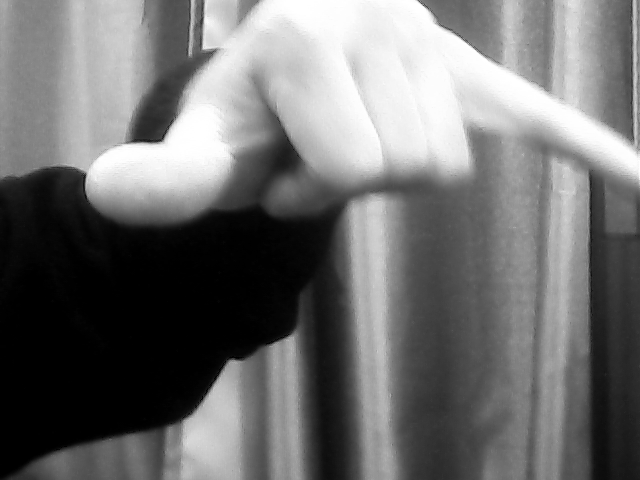aloha: (87, 1, 639, 229)
